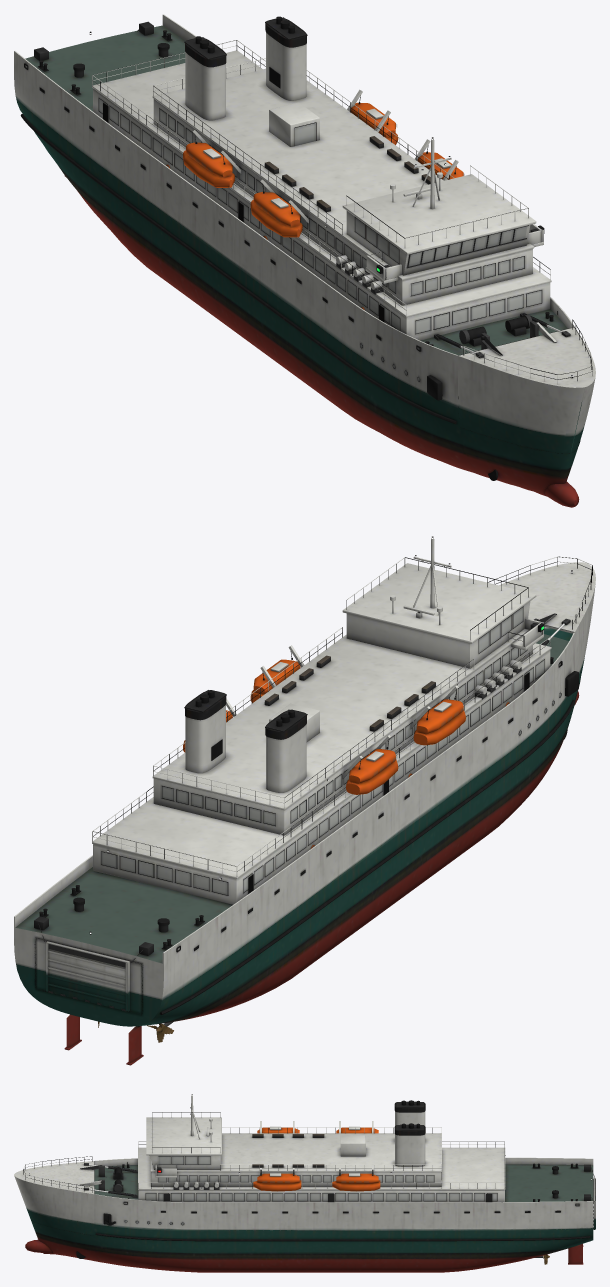
File: tevy-ro-ro-lod0.glb
The picture shows the model from 3 angles, top to bottom: view 1: azimuth 30°, elevation 25°; view 2: azimuth 150°, elevation 25°; view 3: azimuth 270°, elevation 25°; orthographic projection. The views are drawn at different scales.
Visible parts, largest first — view 1: body, bow_visor_mesh, fittings; view 2: body, fittings, bow_visor_mesh, stern_ramp_mesh; view 3: body, bow_visor_mesh, fittings, rudder_L_mesh.
Boxes of the visible parts, x1,y1,x2,y2 form: body: [14, 14, 579, 507]; bow_visor_mesh: [458, 319, 595, 453]; fittings: [90, 33, 541, 380]; body: [14, 536, 579, 1026]; fittings: [90, 537, 560, 933]; bow_visor_mesh: [488, 556, 595, 699]; stern_ramp_mesh: [46, 941, 129, 1011]; body: [25, 1094, 594, 1272]; bow_visor_mesh: [14, 1156, 102, 1235]; fittings: [125, 1095, 591, 1224]; rudder_L_mesh: [568, 1245, 583, 1264].
Bounding box in the file's own units: 20.1 × 28.23 × 92.1.
Materials: 7 (1 with a texture image).
